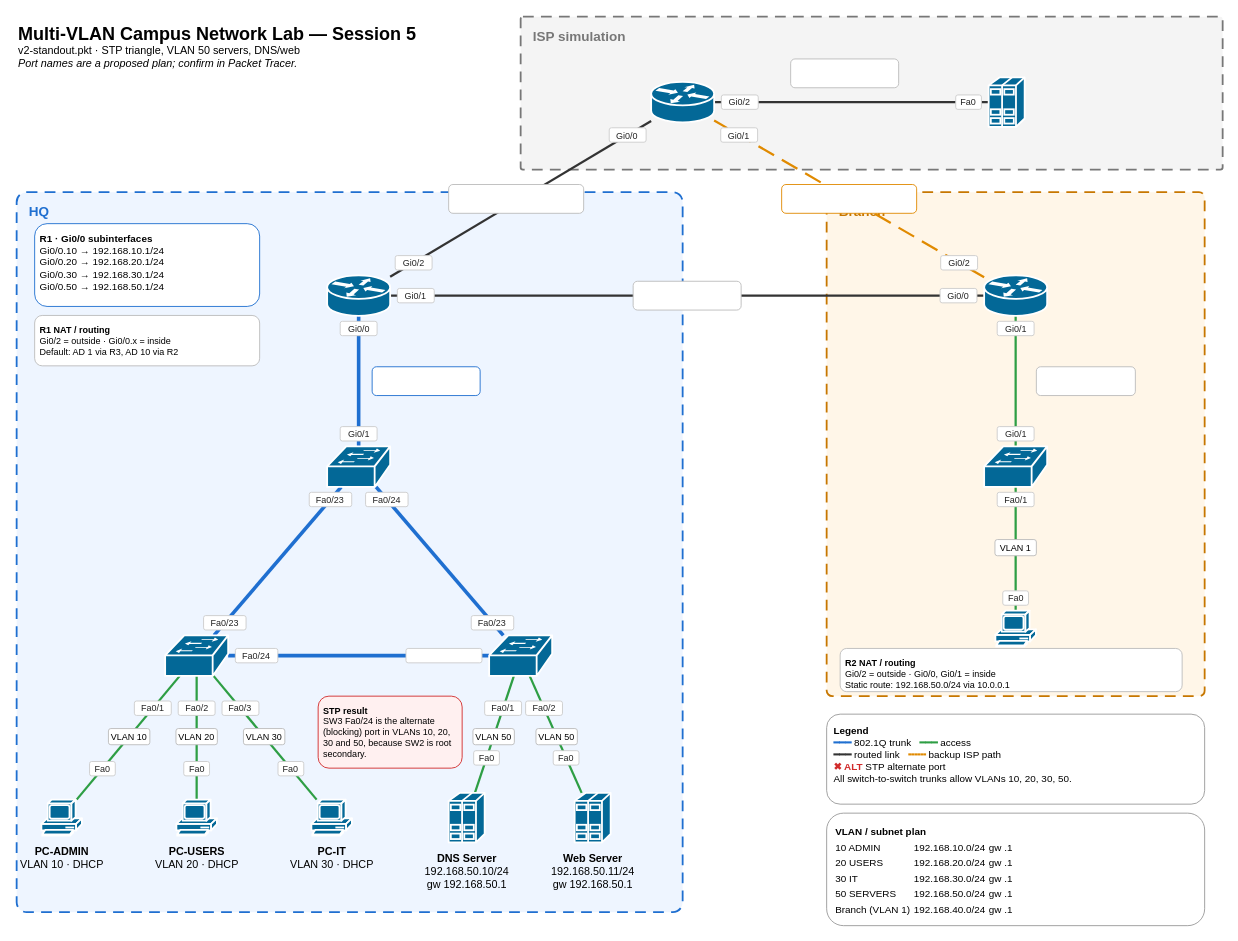
Some shapes in this 1238 by 941 pixel diagram are drawn without their labels. The centre of each missing label's shape, as x and y in pixels:
"10.0.0.0/30 transit R1 .1 · R2 .2" goes at (x=686, y=295).
"198.51.100.0/24 R3 .1 · server .10" goes at (x=844, y=73).
"203.0.113.0/30 R1 .1 · R3 .2 · primary ISP" goes at (x=516, y=198).
"203.0.113.4/30 R2 .5 · R3 .6 · backup ISP" goes at (x=849, y=198).
"802.1Q trunk VLAN 10, 20, 30, 50" goes at (x=425, y=381).
"Fa0/24 ✖ ALT" goes at (x=443, y=655).
"PC-BRANCH VLAN 1 · DHCP" goes at (x=1015, y=628).
"Public Web Server 198.51.100.10/24 gw 198.51.100.1" goes at (x=1006, y=101).
"R1 Cisco 2911 HQ router" goes at (x=358, y=295).
"R2 · Cisco 2911 Branch router" goes at (x=1015, y=295).
"R3 · Cisco 2911 ISP router · Lo0 8.8.8.8/32" goes at (x=682, y=102).
"SW1 · 2960 STP root primary" goes at (x=358, y=466).
"SW2 · 2960 STP root secondary" goes at (x=196, y=655).
"SW3 · 2960" goes at (x=520, y=655).
"SW4 · 2960" goes at (x=1015, y=466).
"VLAN 1 192.168.40.0/24" goes at (x=1085, y=381).
